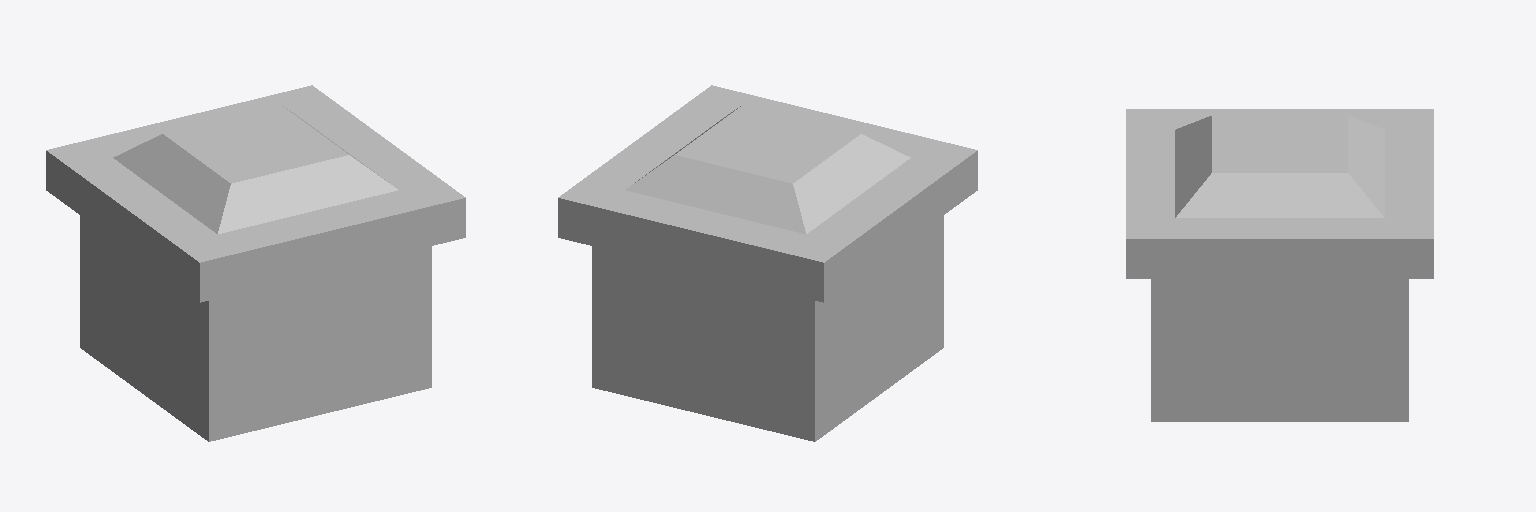
File: beholderPiece.obj
3 views of the same model, side by side, from view 1: azimuth 30°, elevation 25°; view 2: azimuth 150°, elevation 25°; view 3: azimuth 270°, elevation 25° (orthographic).
Visible parts, largest first — view 1: beholder; view 2: beholder; view 3: beholder.
Boxes of the visible parts, x1,y1,x2,y2 form: beholder: [46, 85, 465, 441]; beholder: [558, 85, 977, 441]; beholder: [1126, 109, 1433, 421].
Bounding box in the file's own units: 4.77 × 3.82 × 4.77.